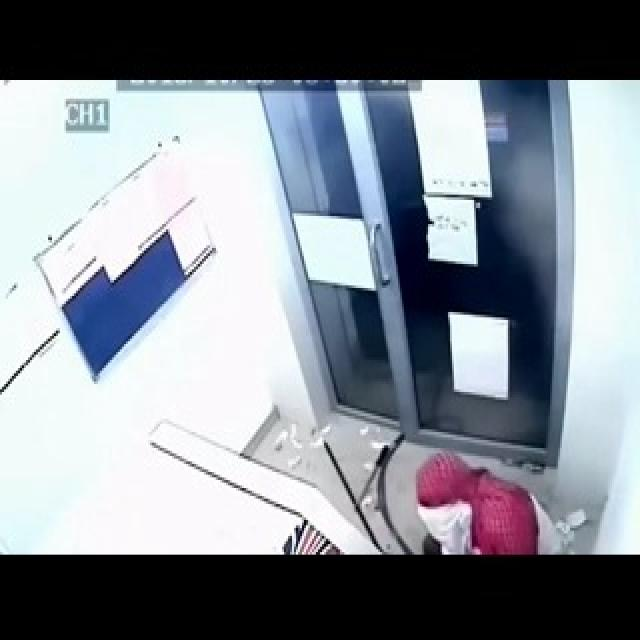thief: (406, 432, 560, 543)
